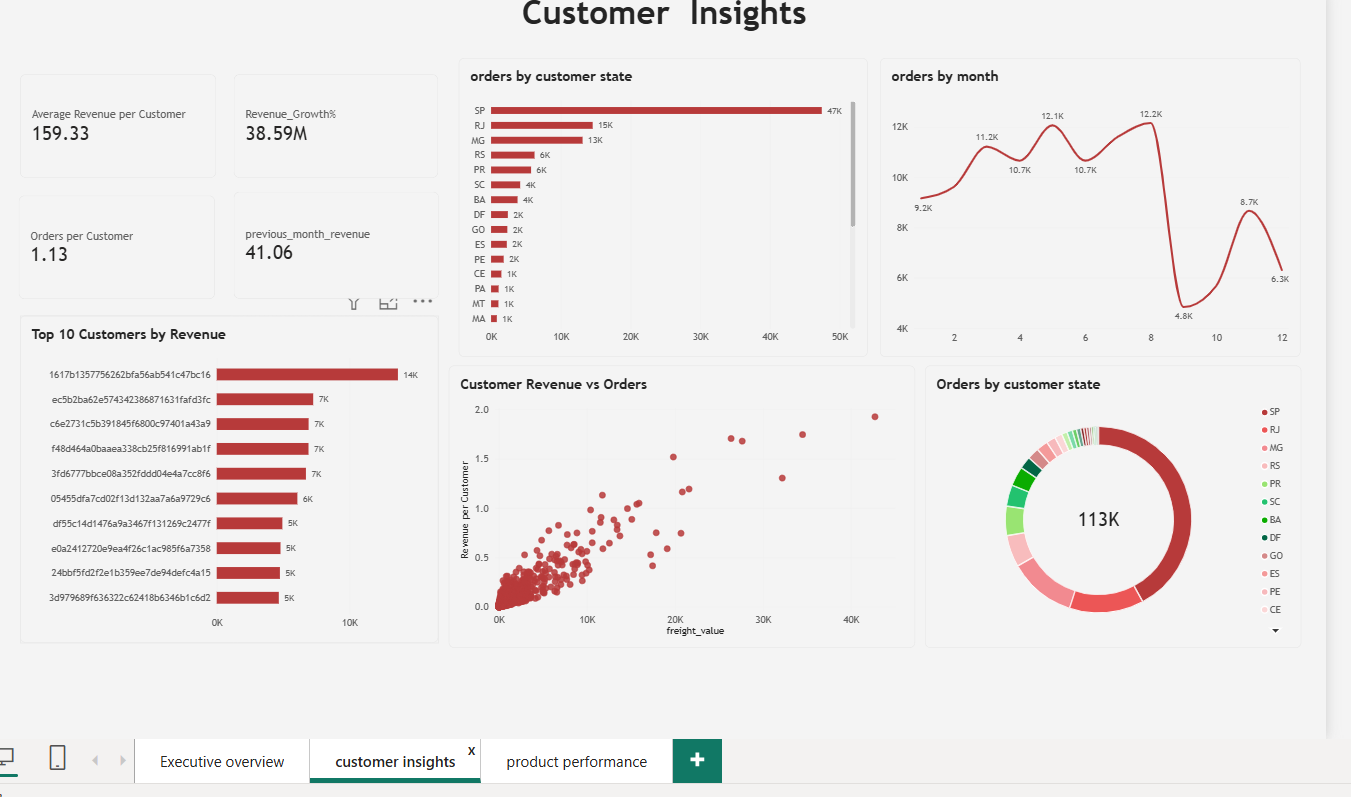

What the dashboard file says about the page in this screenshot:
{"tool":"powerbi","page":{"name":"customer insights","canvas":[1920,1080],"ordinal":1},"visuals":[{"type":"textbox","box":[27.5,0,1869.1,77],"z":0},{"type":"cardVisual","fields":{"Data":["olist_bi fact_sales.Average Revenue per Customer"]},"box":[29.3,117.4,284.1,150.2],"z":1},{"type":"cardVisual","fields":{"Data":["olist_bi fact_sales.Orders per Customer"]},"box":[27.5,293.5,284,150],"z":2},{"type":"clusteredBarChart","title":"Top 10 Customers by Revenue","fields":{"Category":["olist_bi dim_customer.customer_id"],"Y":["olist_bi fact_sales.Total_revenue"]},"box":[29.3,467.7,605.3,473.2],"z":3},{"type":"clusteredBarChart","title":"orders by customer state","fields":{"Category":["olist_bi dim_customer.customer_state"],"Y":["olist_bi fact_sales.Total_orders"]},"box":[664,93.5,591.8,432.5],"z":4},{"type":"scatterChart","title":"Customer Revenue vs Orders ","fields":{"Category":["olist_bi fact_sales.price"],"X":["Sum(olist_bi fact_sales.freight_value)"],"Y":["olist_bi fact_sales.Average Revenue per Customer"]},"box":[649.7,539.3,675,409],"z":5},{"type":"cardVisual","fields":{"Data":["olist_bi fact_sales.Revenue_Growth%"]},"box":[337.5,117.4,296.8,150.2],"z":6},{"type":"cardVisual","fields":{"Data":["olist_bi fact_sales.previous_month_revenue"]},"box":[337.5,288,297.1,155.9],"z":7},{"type":"lineChart","title":"orders by month","fields":{"Category":["olist_bi fact_sales.month"],"Y":["olist_bi fact_sales.Total_orders"]},"box":[1274.8,93.5,609,432.9],"z":8},{"type":"donutChart","title":"Orders by customer state","fields":{"Category":["olist_bi dim_customer.customer_state"],"Y":["olist_bi fact_sales.Total_orders"]},"box":[1339,539.3,544.8,409],"z":9}]}

Visuals, with their boxes on the page's 1920x1080 design canvas (x1, y1, x2, y2). These are canvas units, not pixel positions in the 1351x797 screenshot, which may show the page scaled, cropped or inside an application window:
textbox: {"x1": 28, "y1": 0, "x2": 1897, "y2": 77}
cardVisual - olist_bi fact_sales.Average Revenue per Customer: {"x1": 29, "y1": 117, "x2": 313, "y2": 268}
cardVisual - olist_bi fact_sales.Orders per Customer: {"x1": 28, "y1": 294, "x2": 312, "y2": 444}
"Top 10 Customers by Revenue" clusteredBarChart: {"x1": 29, "y1": 468, "x2": 635, "y2": 941}
"orders by customer state" clusteredBarChart: {"x1": 664, "y1": 94, "x2": 1256, "y2": 526}
"Customer Revenue vs Orders " scatterChart: {"x1": 650, "y1": 539, "x2": 1325, "y2": 948}
cardVisual - olist_bi fact_sales.Revenue_Growth%: {"x1": 338, "y1": 117, "x2": 634, "y2": 268}
cardVisual - olist_bi fact_sales.previous_month_revenue: {"x1": 338, "y1": 288, "x2": 635, "y2": 444}
"orders by month" lineChart: {"x1": 1275, "y1": 94, "x2": 1884, "y2": 526}
"Orders by customer state" donutChart: {"x1": 1339, "y1": 539, "x2": 1884, "y2": 948}
